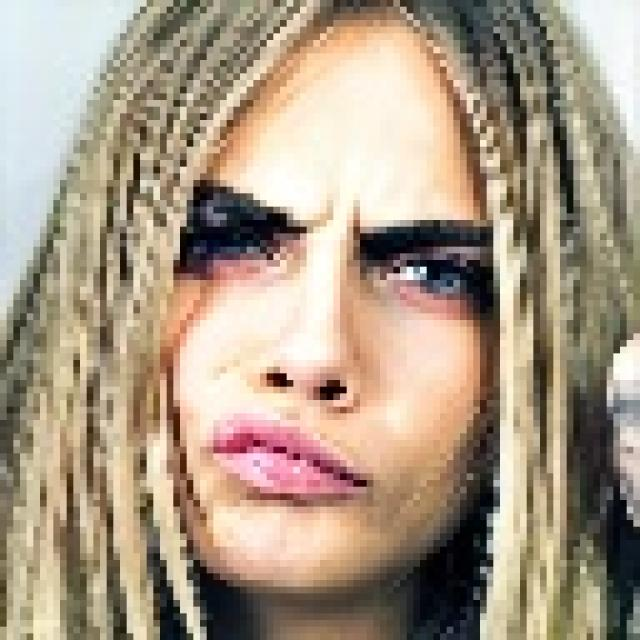angry: (87, 0, 546, 598)
